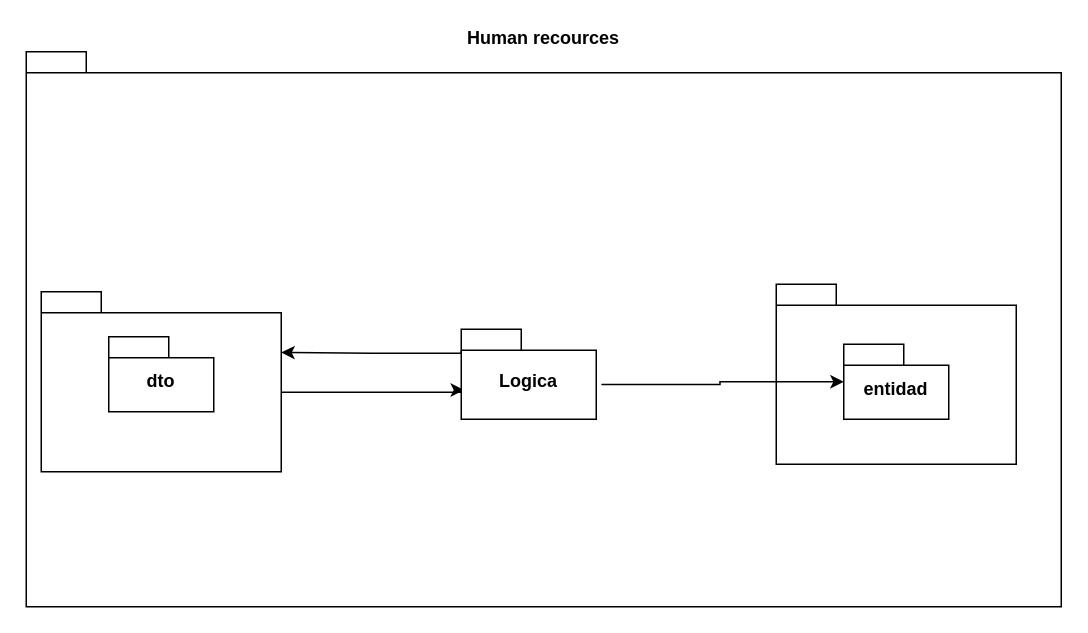
The diagram is 1088 pixels wide and 633 high, and some of its shapes have lost their labels. Each missing label, with the box of its shape:
controlador: (40, 290, 281, 472)
db: (775, 283, 1016, 464)
